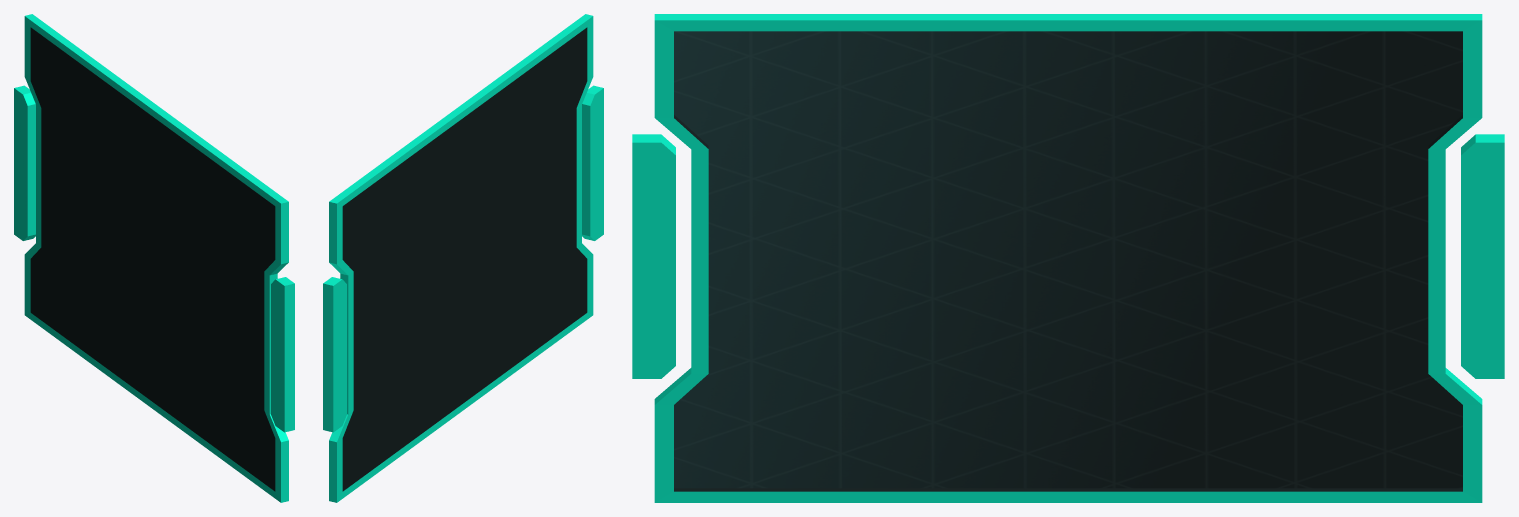
Rendered from UI_ObjectInfo.glb.
3 renders of one model, left to right at view 1: azimuth 30°, elevation 25°; view 2: azimuth 150°, elevation 25°; view 3: azimuth 270°, elevation 25°, orthographic. The views are drawn at different scales.
Parts seen in each view (by area): view 1: UI_ObjectInfo, Bar_Left, Bar_Right; view 2: UI_ObjectInfo, Bar_Right, Bar_Left; view 3: UI_ObjectInfo, Bar_Left, Bar_Right.
Boxes of the visible parts, x1,y1,x2,y2 form: UI_ObjectInfo: [24, 14, 288, 502]; Bar_Left: [271, 277, 294, 432]; Bar_Right: [14, 85, 35, 240]; UI_ObjectInfo: [329, 14, 593, 502]; Bar_Right: [323, 277, 346, 432]; Bar_Left: [582, 85, 603, 240]; UI_ObjectInfo: [654, 14, 1482, 502]; Bar_Left: [632, 134, 675, 378]; Bar_Right: [1461, 134, 1504, 378].
Bounding box in the file's own units: 0.0293 × 0.7378 × 1.21.
2 materials, 1 textured.
